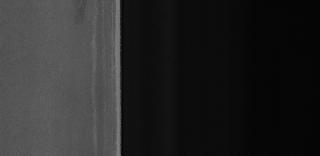water spot: (72, 2, 96, 32)
